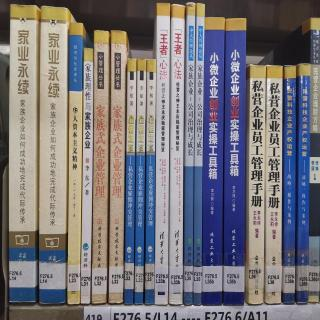book-spine: (7, 4, 41, 304), (219, 16, 251, 311), (39, 7, 70, 306), (201, 19, 224, 306), (106, 30, 128, 307), (90, 32, 111, 305), (168, 4, 185, 306), (66, 22, 84, 307), (265, 64, 284, 304), (155, 3, 170, 305), (248, 66, 265, 305), (182, 4, 195, 305), (294, 63, 310, 306), (306, 18, 319, 303), (194, 3, 206, 308), (80, 48, 94, 305), (132, 58, 146, 306), (143, 57, 157, 304), (123, 58, 136, 305), (282, 66, 295, 304)
